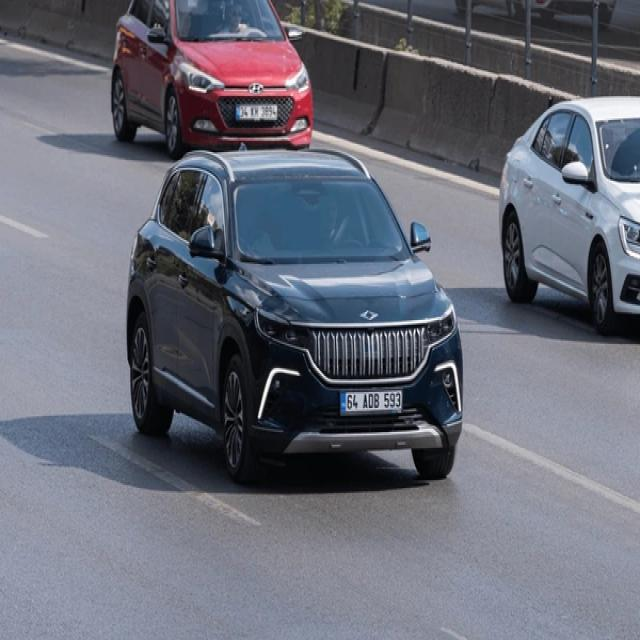togg: (358, 307, 382, 325)
